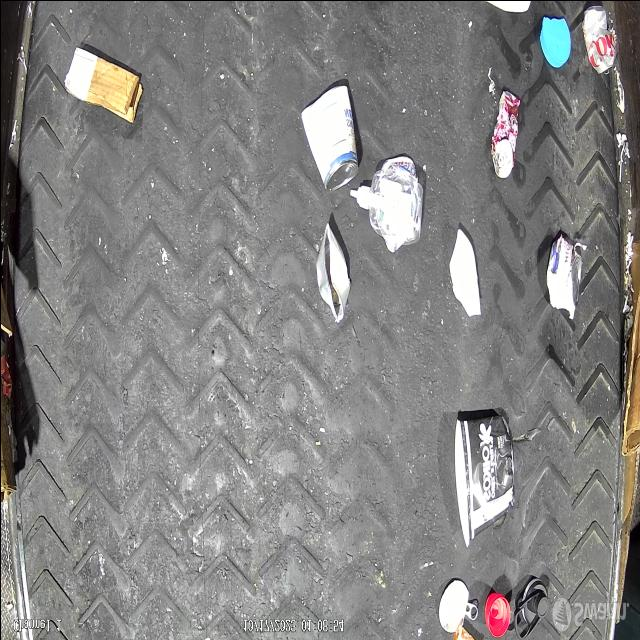can: (299, 82, 359, 192), (315, 222, 350, 322), (490, 89, 521, 178), (582, 4, 619, 76), (546, 236, 580, 312)
